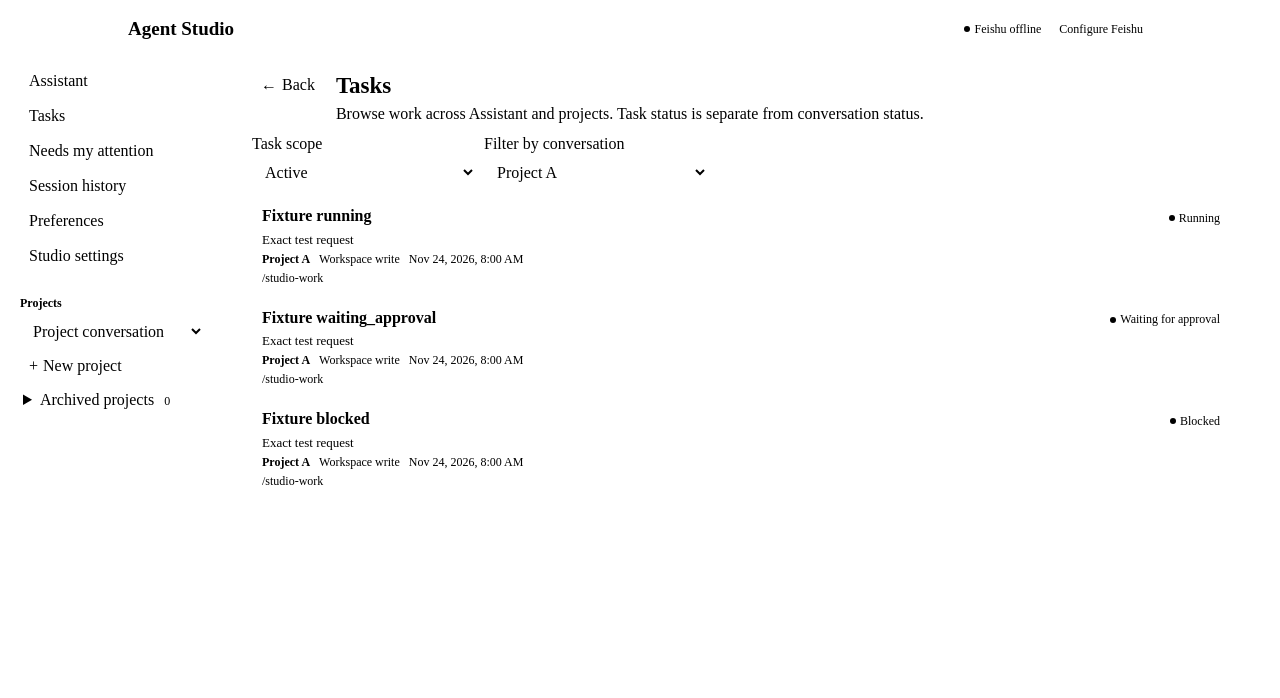
it: renders all seven task badges, filters the ledger and opens evidence and source without writing to the Session
This screenshot has width=1280, height=698.
Earlier steps of the test are not shown.
Click the button with class "as-task-row" that starts with "Fixture waiting_approval".
click(349, 317)  # box [252,300,1236,395]
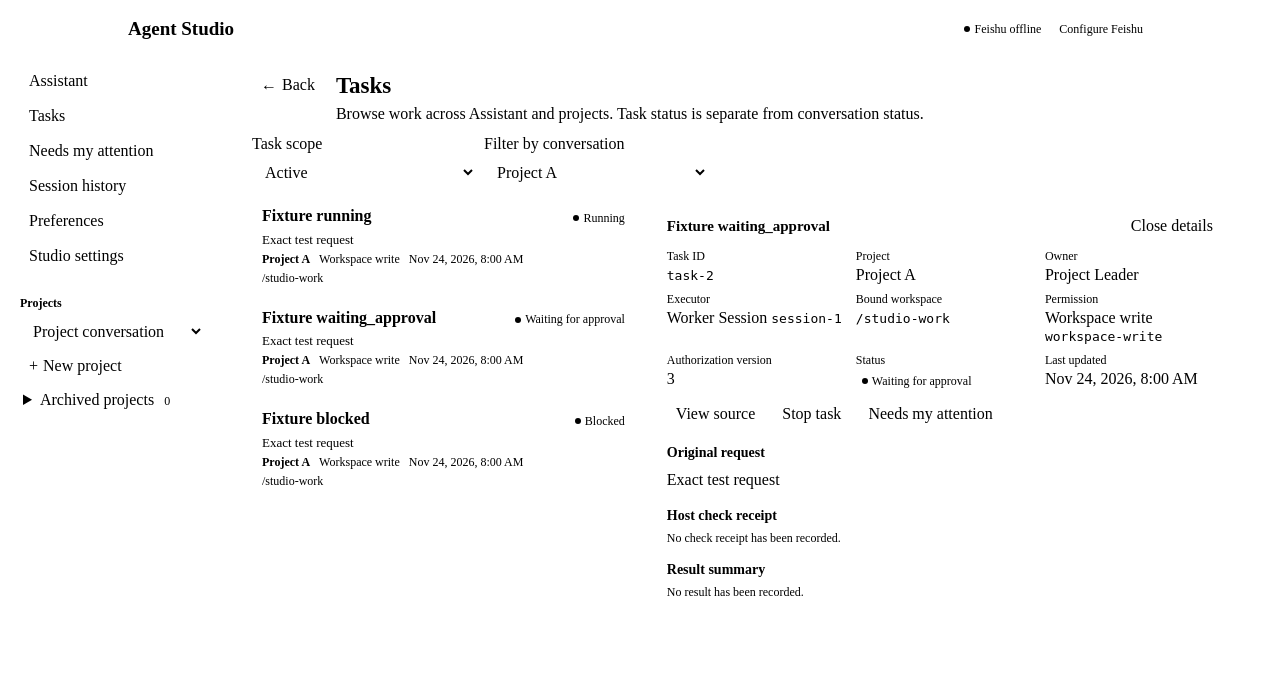
Click the button "Stop task".
click(812, 414)  # box [773,398,850,428]
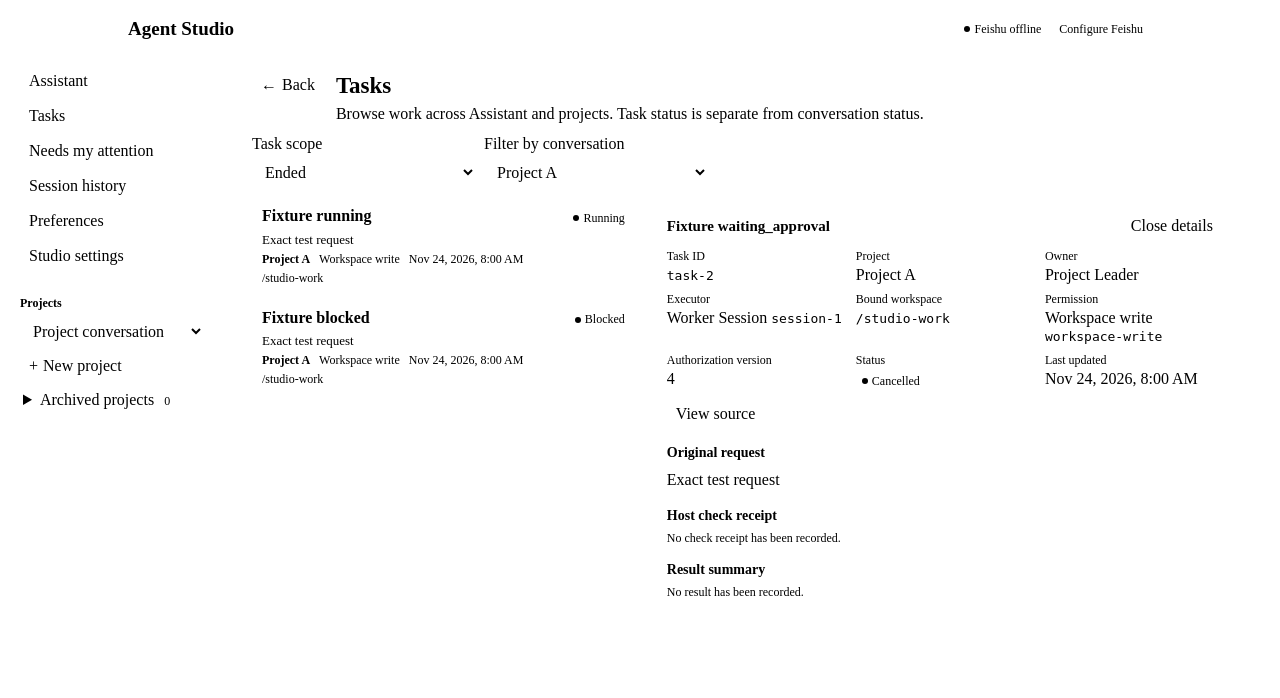
Check: the element with class "as-task-detail" shows "Cancelled", box [872,374,920,388]
Select "Ended" in the dropdown labelled "Task scope" at x=364, y=172, box [252,157,476,187]
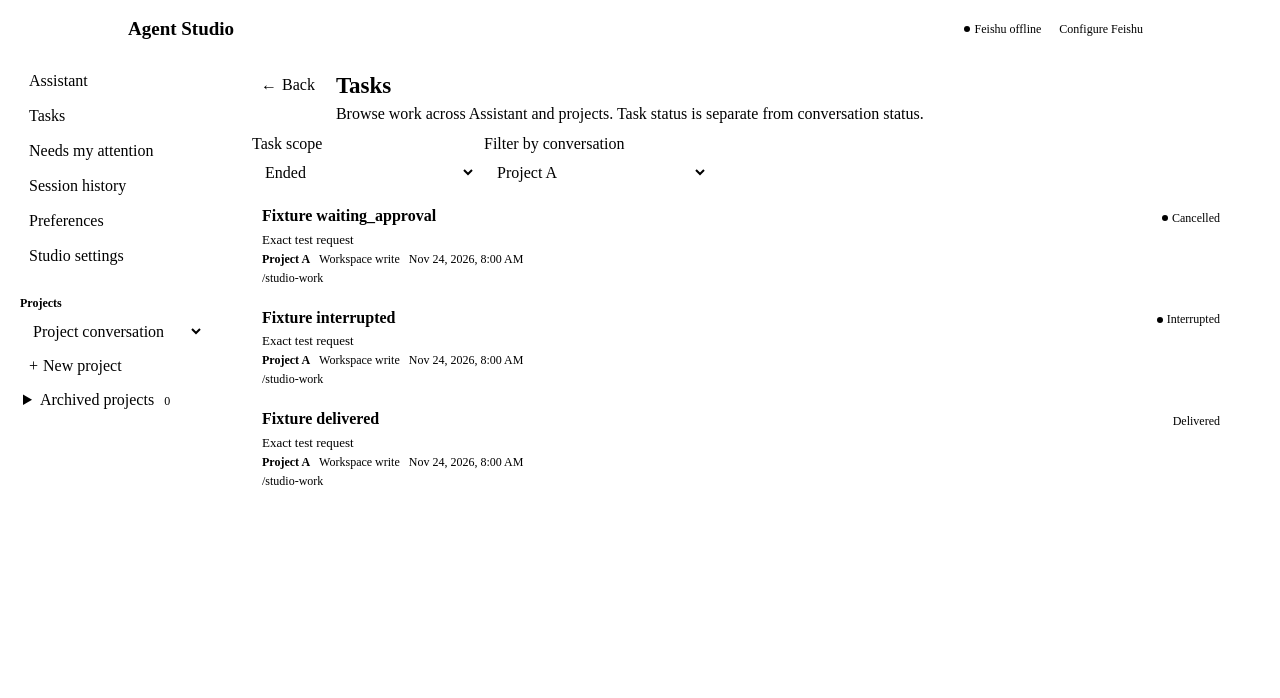
Click the button with class "as-task-row" that starts with "Fixture delivered".
click(321, 419)  # box [252,402,1236,496]
(page scrolled)
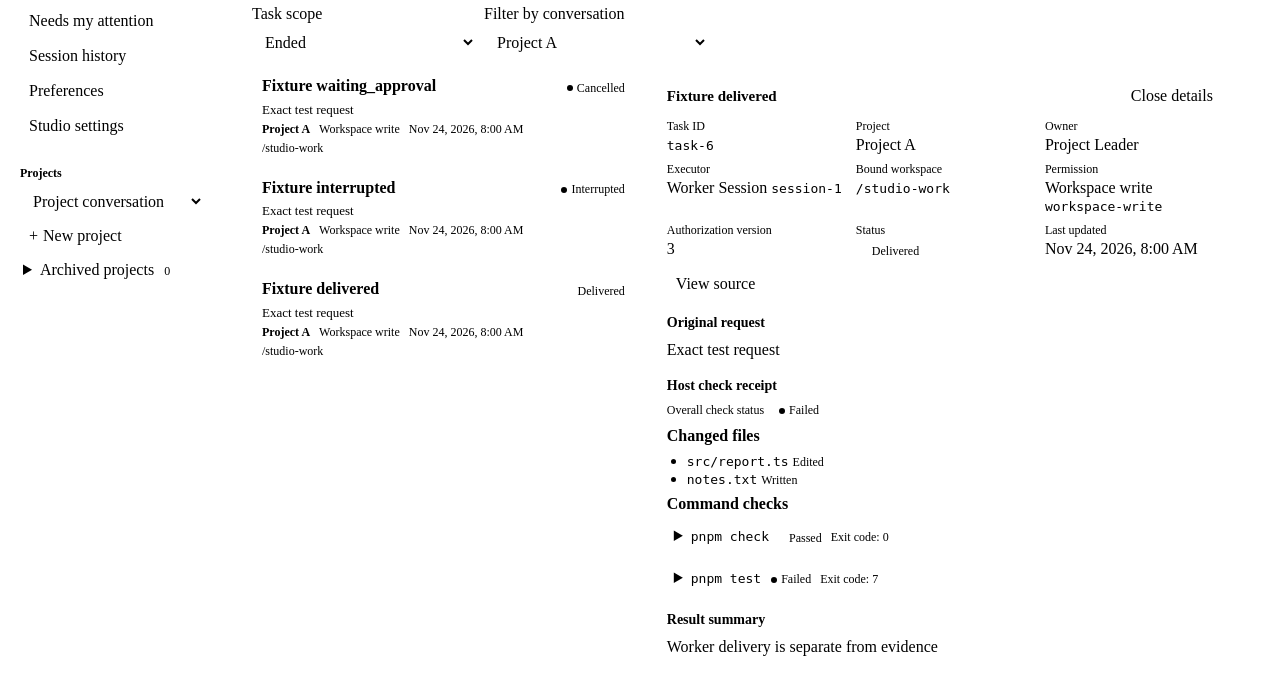
Check: the element with class "as-pill" reads "Failed", box [789,403,819,417]
Click the heading "pnpm test Failed Exit code: 7".
click(784, 579)  # box [691,571,878,586]
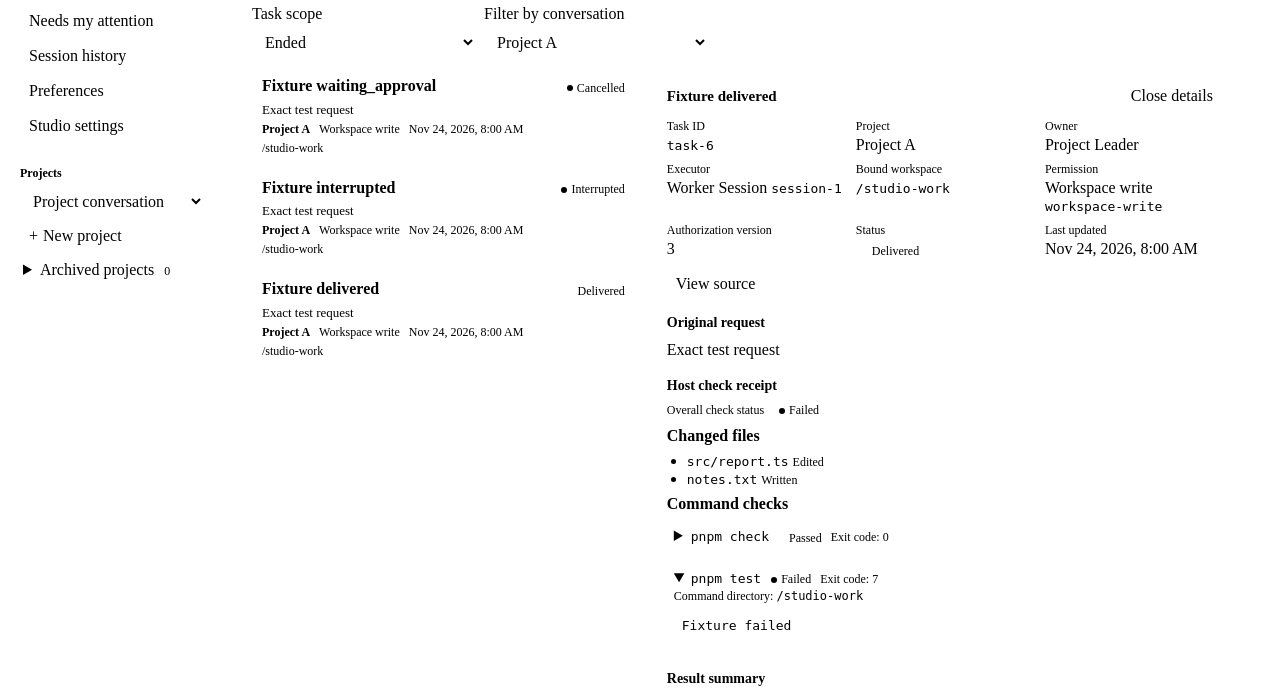
Check: the text "Fixture failed" is shown, box [682,618,791,633]
Click the button "View source".
click(716, 284)  # box [667,268,764,298]
(page scrolled)
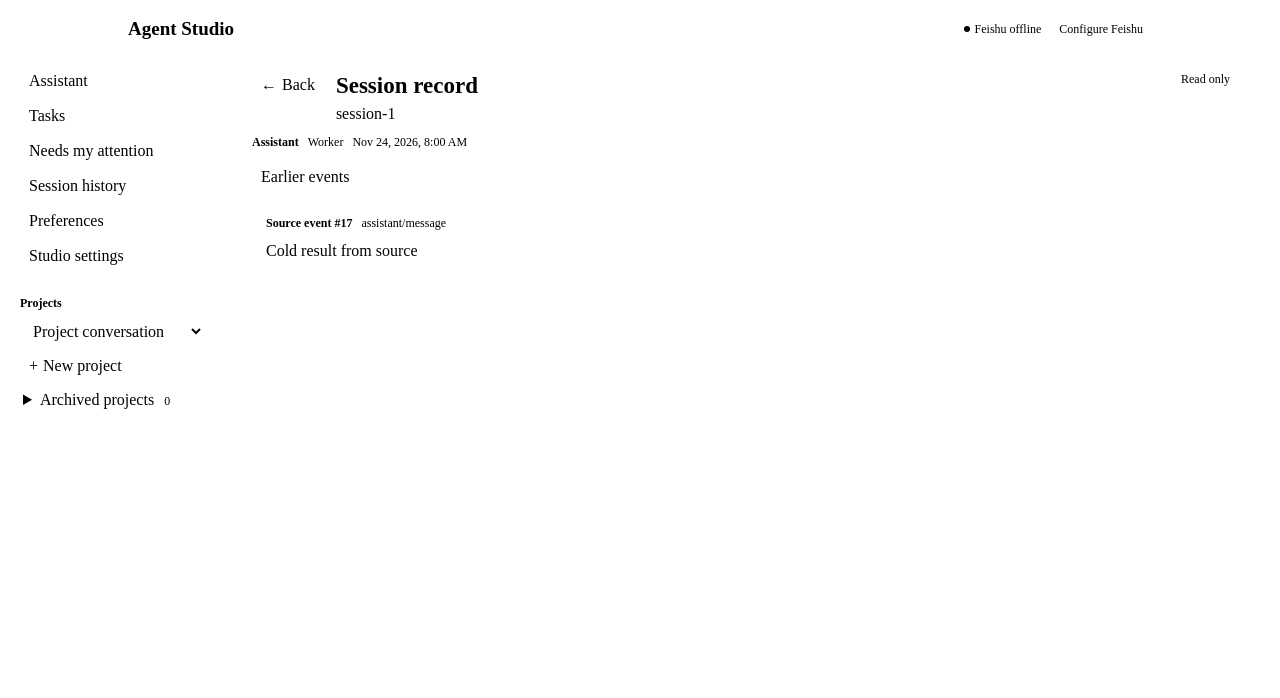
Check: the list item "Source event #17 assistant/message Cold result from source" is shown, box [266,216,446,259]
